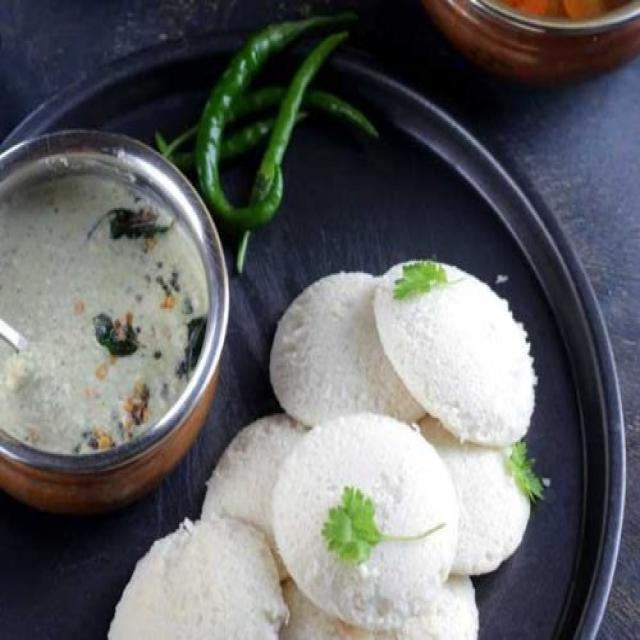Wet Waste: (0, 167, 210, 456), (271, 410, 465, 620), (372, 252, 536, 438), (266, 258, 436, 432), (387, 400, 545, 578), (99, 516, 288, 638), (204, 411, 322, 579)
